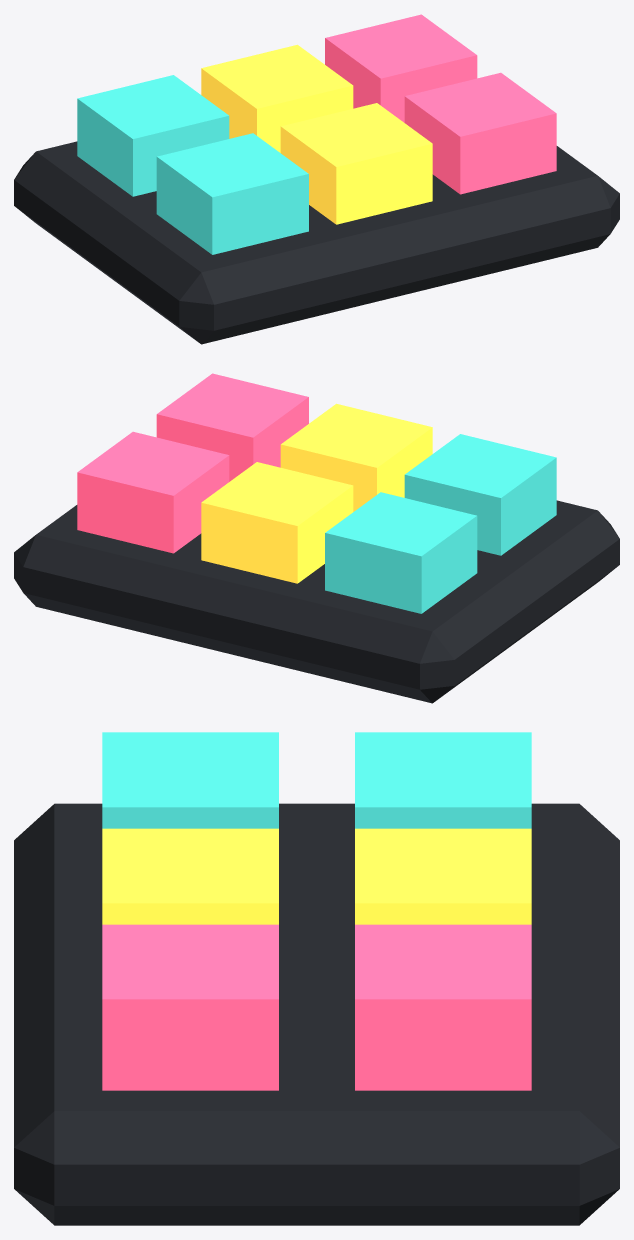
Rendered from prop_keyboardsmash_p2.glb.
3 renders of one model, top to bottom at view 1: azimuth 30°, elevation 25°; view 2: azimuth 150°, elevation 25°; view 3: azimuth 270°, elevation 25°, orthographic. The views are drawn at different scales.
Parts seen in each view (by area): view 1: prop_keyboardsmash_p2_mesh; view 2: prop_keyboardsmash_p2_mesh; view 3: prop_keyboardsmash_p2_mesh.
Boxes of the visible parts, left/top/right/bottom form: prop_keyboardsmash_p2_mesh: left=14, top=14, right=619, bottom=344; prop_keyboardsmash_p2_mesh: left=14, top=373, right=619, bottom=703; prop_keyboardsmash_p2_mesh: left=14, top=732, right=619, bottom=1225.
Size of the model in its own units: 0.16 by 0.045 by 0.12.
